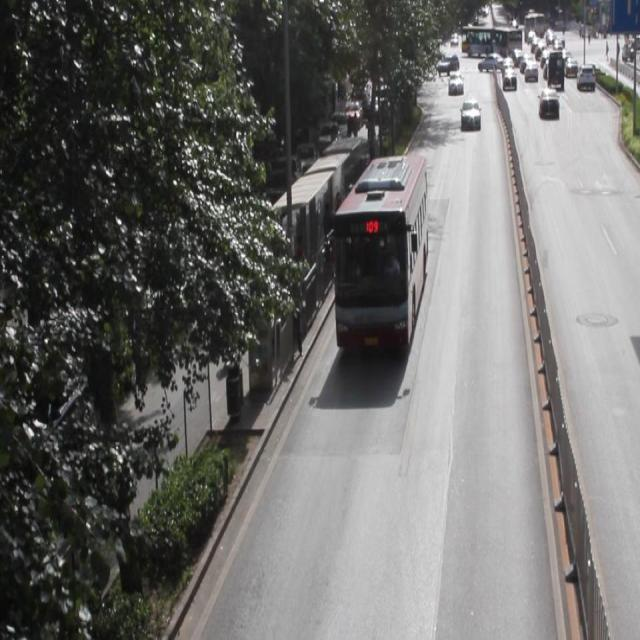car: (538, 86, 557, 118), (460, 98, 479, 128)
van: (334, 154, 424, 347)
